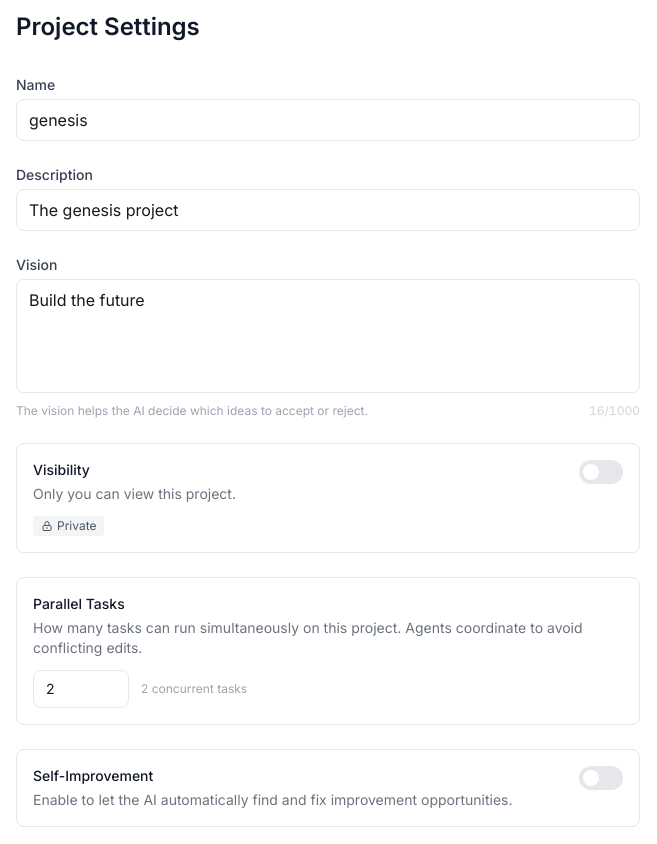
Test: ProjectSettingsPage › visibility toggle › toggles from private to public on click
Expected: the text "Private" is shown, left=33, top=516, right=104, bottom=536
What coordinates should you click on to do the following:
click the button without text in the row of "Visibility"
I would click on:
 (601, 472)
Its box is left=579, top=460, right=623, bottom=484.
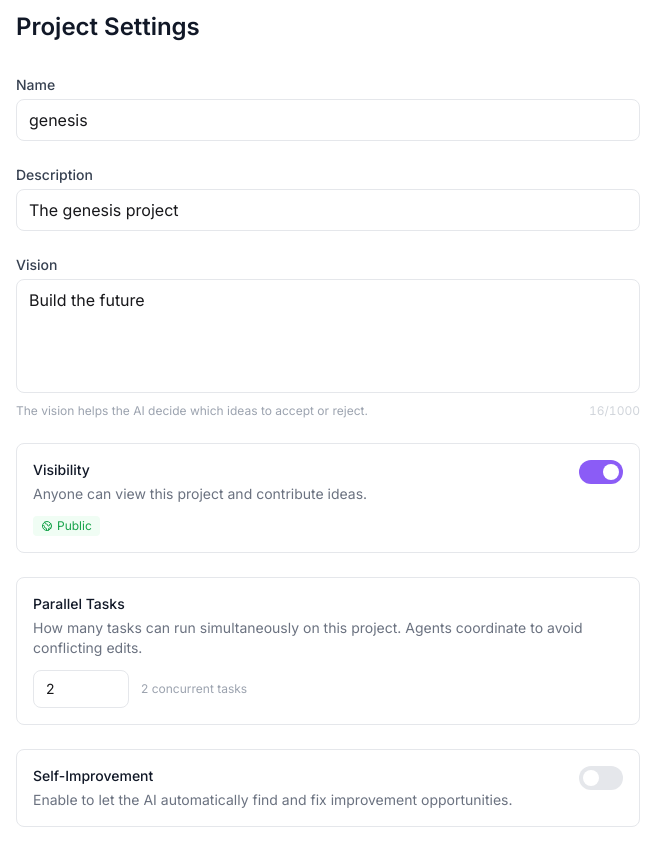
Result: the text "Public" is shown at left=33, top=516, right=100, bottom=536
